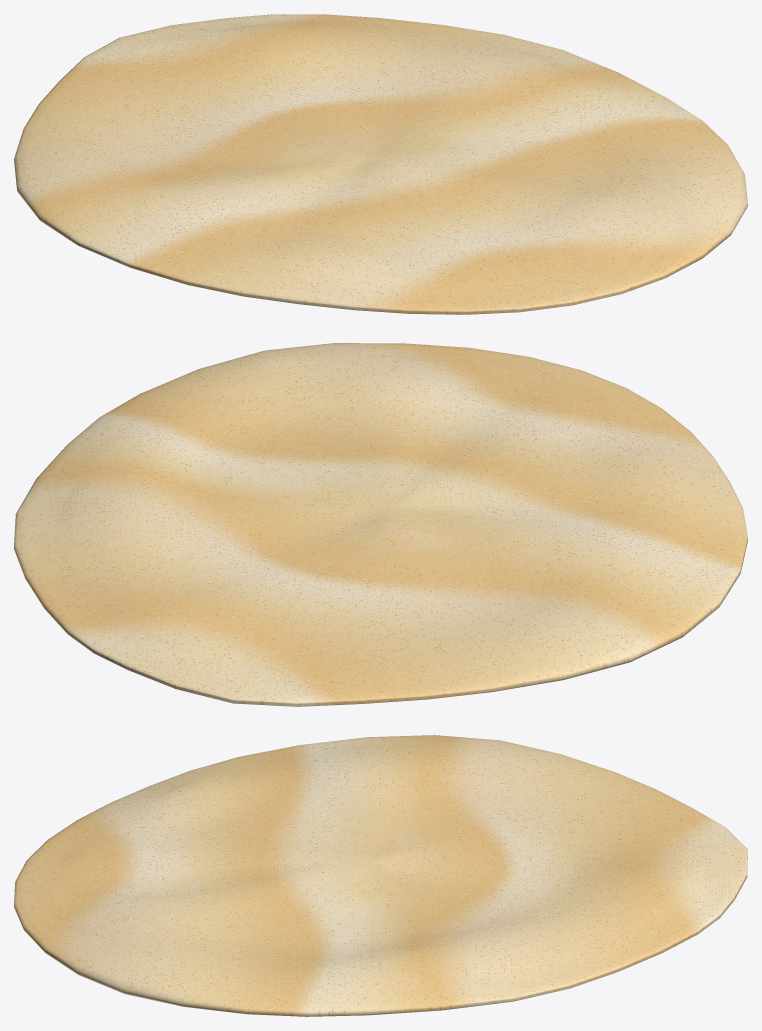
The model's file is ostrvo1.fbx.
The picture shows the model from 3 angles, top to bottom: view 1: azimuth 30°, elevation 25°; view 2: azimuth 150°, elevation 25°; view 3: azimuth 270°, elevation 25°; orthographic projection. The views are drawn at different scales.
Visible parts, largest first — view 1: ostrvo1; view 2: ostrvo1; view 3: ostrvo1.
Boxes of the visible parts, bbox=[...] form: ostrvo1: bbox=[14, 14, 747, 314]; ostrvo1: bbox=[14, 343, 747, 706]; ostrvo1: bbox=[14, 735, 747, 1016].
Bounding box in the file's own units: 253 × 283 × 14.86.
Materials: 1 (1 with a texture image).
